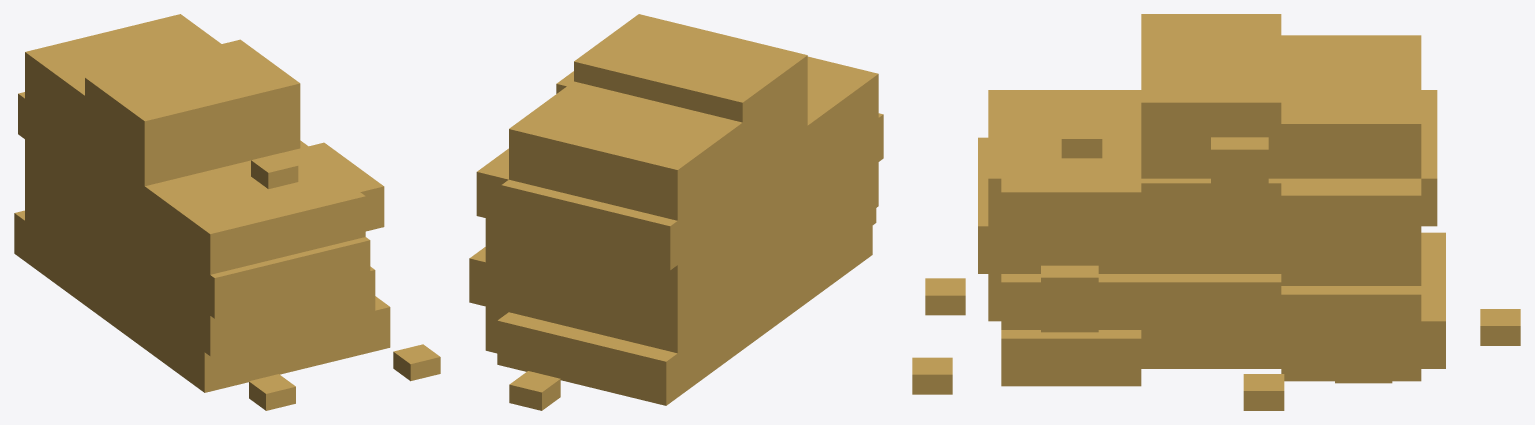
File: rock1.fbx
3 renders of one model, left to right at view 1: azimuth 30°, elevation 25°; view 2: azimuth 150°, elevation 25°; view 3: azimuth 270°, elevation 25°, orthographic. The views are drawn at different scales.
Parts seen in each view (by area): view 1: Cube; view 2: Cube; view 3: Cube.
Part boxes in pixels (x1,y1,x2,y2): Cube: [14, 14, 440, 410]; Cube: [469, 14, 883, 410]; Cube: [912, 14, 1520, 410].
Size of the model in its own units: 291 by 281 by 580.
